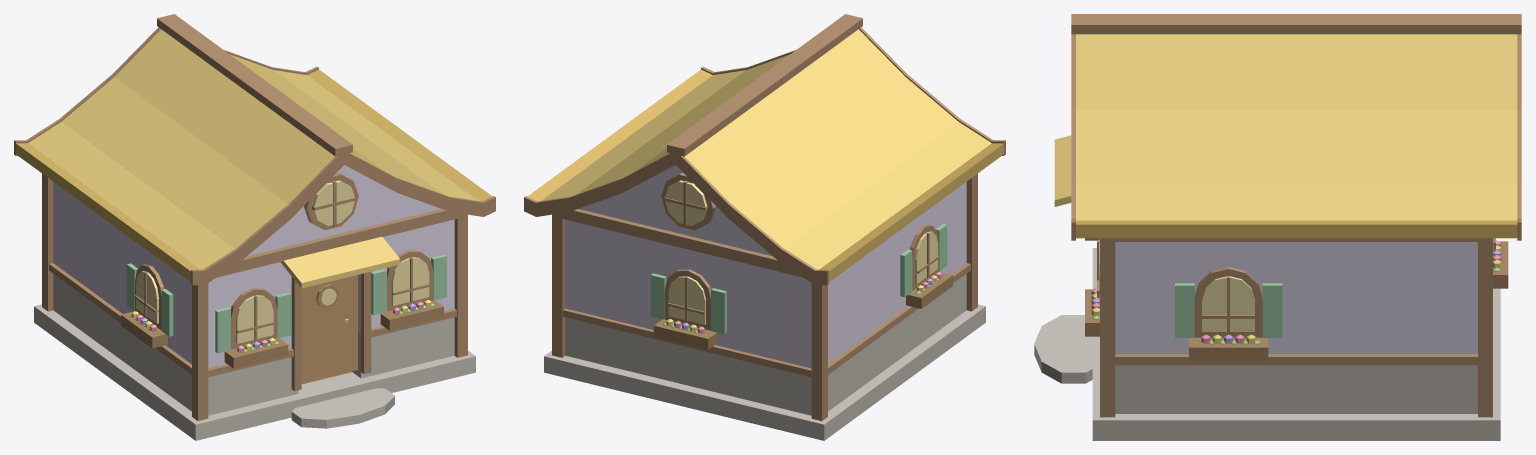
Rendered from inn_lilac.glb.
3 renders of one model, left to right at view 1: azimuth 30°, elevation 25°; view 2: azimuth 150°, elevation 25°; view 3: azimuth 270°, elevation 25°, orthographic. The views are drawn at different scales.
Parts seen in each view (by area): view 1: Player; view 2: Player; view 3: Player.
Boxes of the visible parts, <box> form: Player: <box>14,14,495,440</box>; Player: <box>524,14,1005,440</box>; Player: <box>1034,14,1521,440</box>.
Size of the model in its own units: 5.84 by 4.9 by 6.45.
